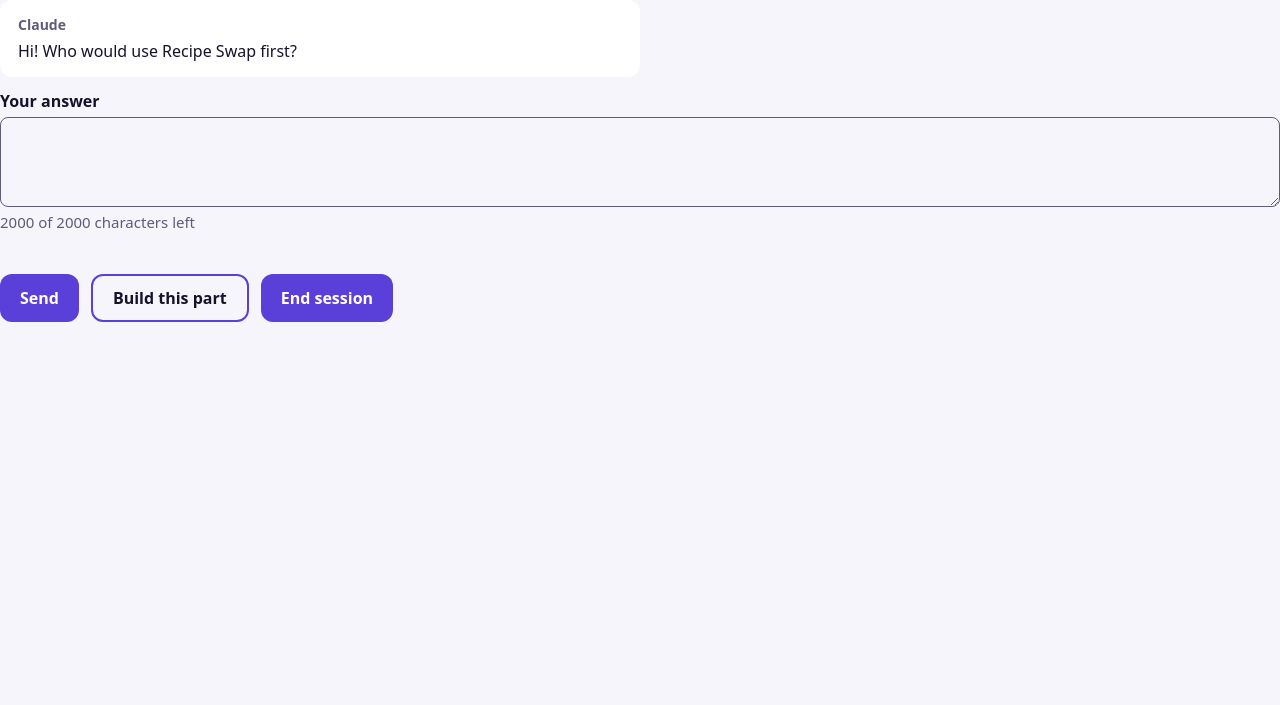
Scenario: building the part › shows Claude's draft in the part form, ready to edit, with focus on its heading
What coordinates should you click on to do the following:
click the button "Build this part"
I would click on:
 (170, 298)
Its box is [91, 274, 249, 322].
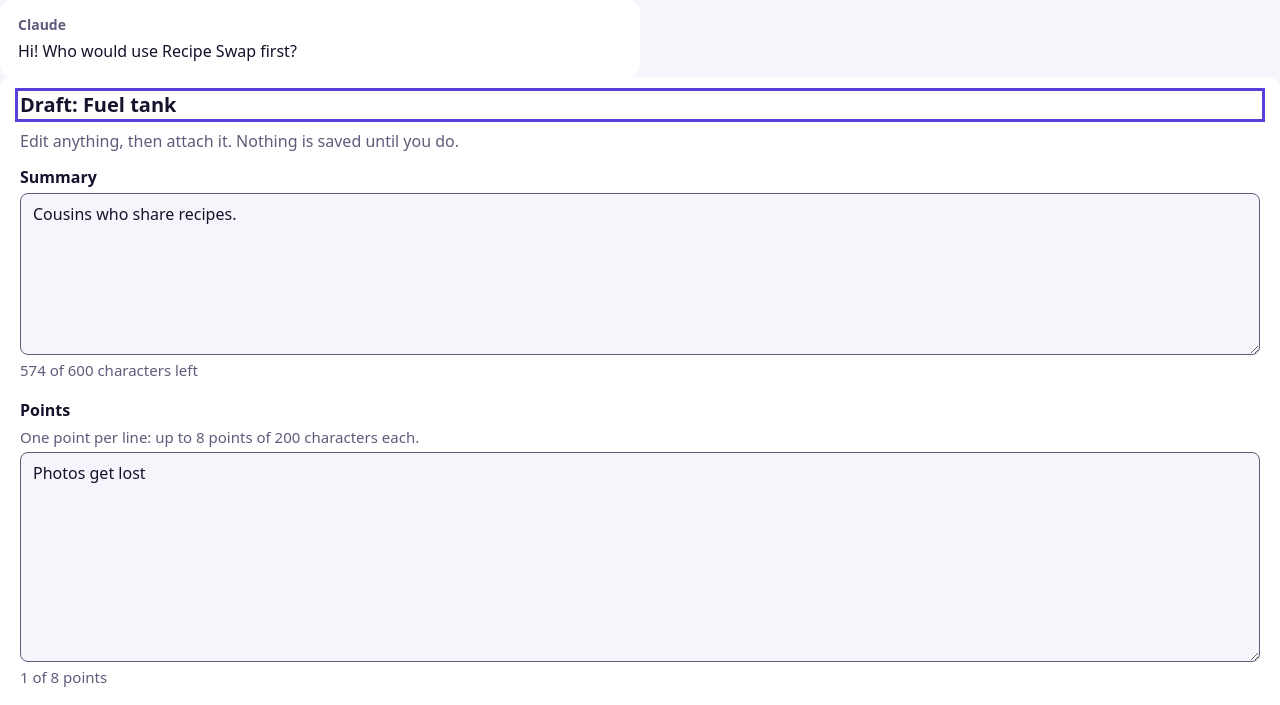
Expected: the text box labelled "Summary" holds "Cousins who share recipes.", [20, 193, 1260, 355]
Expected: the text box labelled "Points" holds "Photos get lost", [20, 452, 1260, 662]
